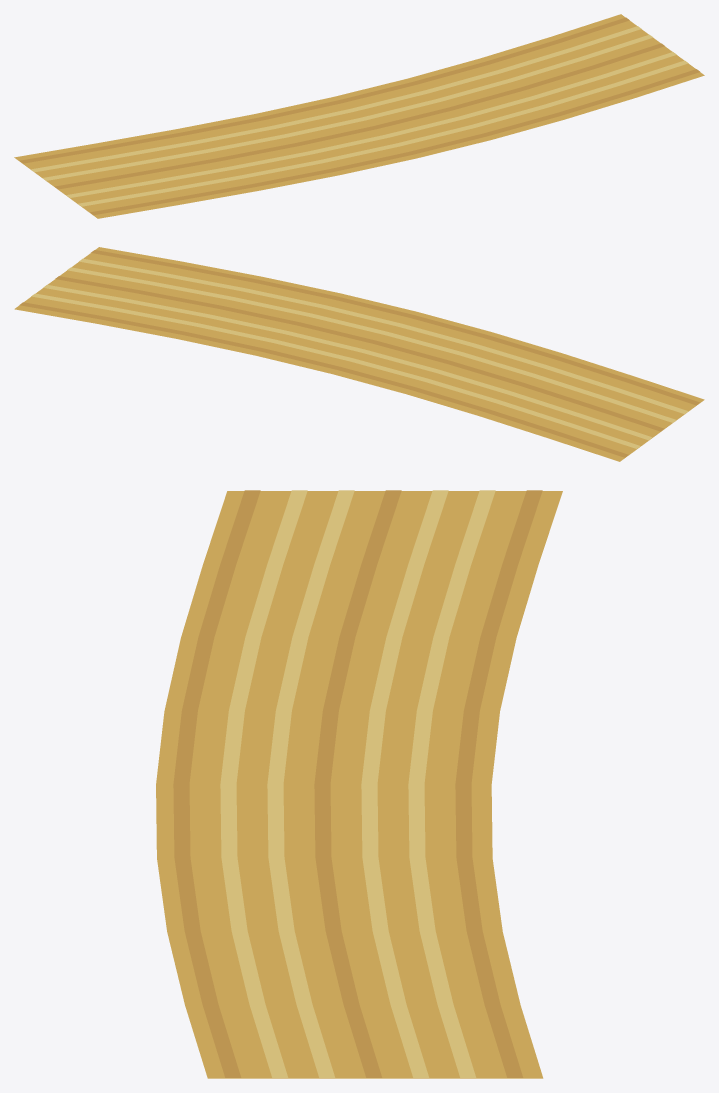
The model's file is Parcelle_4.fbx.
The picture shows the model from 3 angles, top to bottom: view 1: azimuth 30°, elevation 25°; view 2: azimuth 150°, elevation 25°; view 3: azimuth 270°, elevation 25°; orthographic projection. The views are drawn at different scales.
Visible parts, largest first — view 1: Parcelle_4; view 2: Parcelle_4; view 3: Parcelle_4.
Part boxes in pixels (<box>): Parcelle_4: <box>14,14,704,218</box>; Parcelle_4: <box>14,247,704,461</box>; Parcelle_4: <box>156,490,562,1078</box>.
Size of the model in its own units: 2900 by 1.7 by 849.
1 material, 1 textured.
